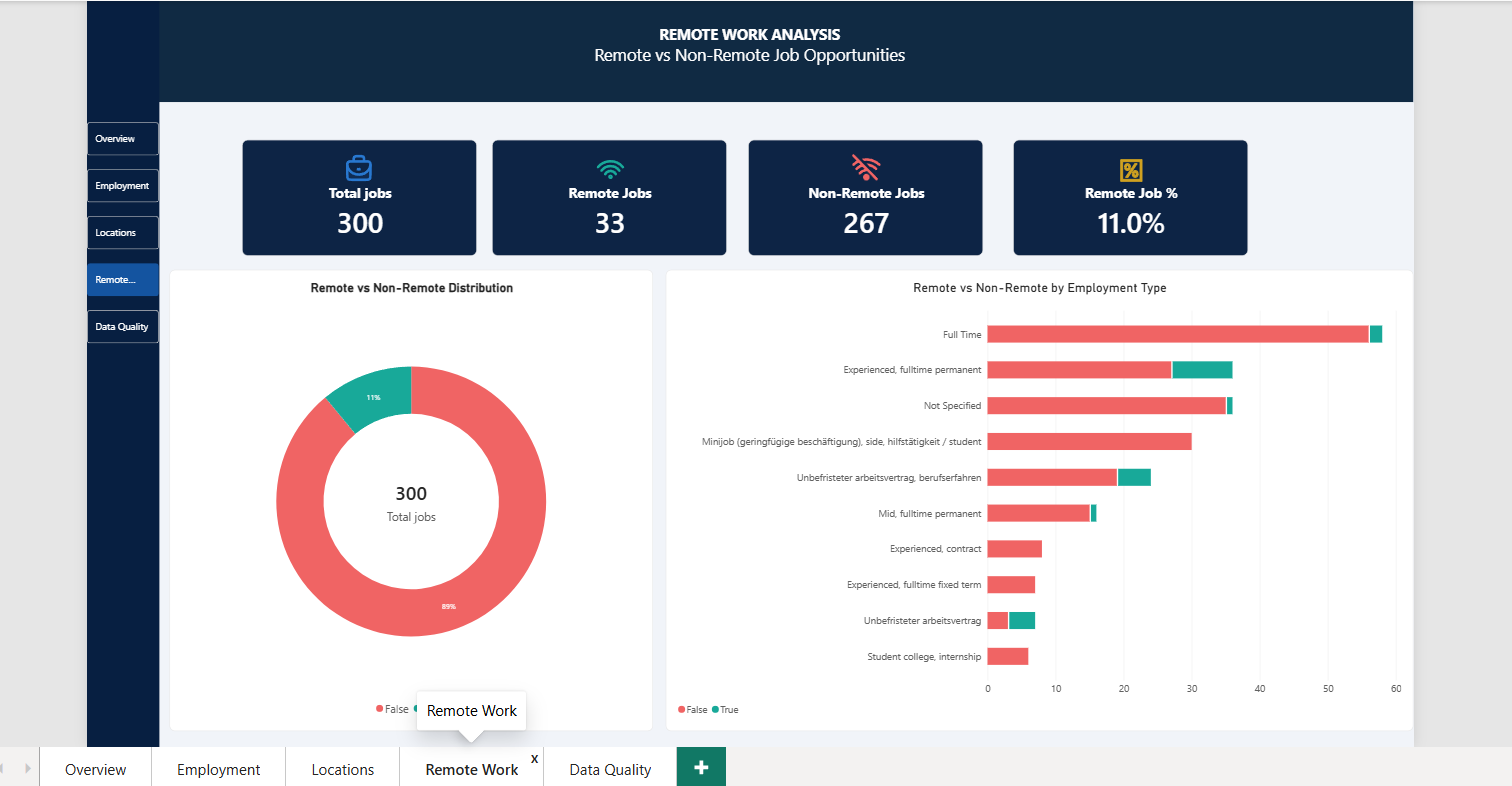

Layout of this report page (visuals, bound fields, positions):
{"tool":"powerbi","page":{"name":"\tRemote Work","canvas":[1920,1080],"ordinal":3},"visuals":[{"type":"shape","box":[0,0,105,1080.4],"z":0,"group":"g2"},{"type":"cardVisual","fields":{"Data":["public clean_jobs.Total jobs"]},"box":[224.4,200.9,340,168],"z":0,"group":"g3"},{"type":"pageNavigator","box":[0,175.5,105,320.3],"z":1000,"group":"g2"},{"type":"cardVisual","fields":{"Data":["public clean_jobs.Remote Jobs"]},"box":[586.3,200.9,340,168],"z":1000},{"type":"cardVisual","fields":{"Data":["public clean_jobs.Non-Remote Jobs"]},"box":[957.3,200.9,340,168],"z":2000},{"type":"cardVisual","fields":{"Data":["public clean_jobs.Remote Job %"]},"box":[1341,200.9,340,168],"z":3000},{"type":"image","box":[331.7,218.1,124.9,45.2],"z":4000,"group":"g3"},{"type":"image","box":[694.9,220.8,124,45],"z":5000},{"type":"image","box":[1065.9,219,124.9,45.2],"z":6000},{"type":"image","box":[1449.5,222.6,124.9,45.2],"z":7000},{"type":"donutChart","title":"Remote vs Non-Remote Distribution","fields":{"Category":["public clean_jobs.remote"],"Y":["public clean_jobs.Total jobs"]},"box":[119.4,389.1,700.3,667.8],"z":8000},{"type":"barChart","title":"Remote vs Non-Remote by Employment Type","fields":{"Category":["public clean_jobs.employment_type"],"Series":["public clean_jobs.remote"],"Y":["public clean_jobs.Total jobs"]},"box":[837.9,389.1,1082.2,667.8],"z":9000},{"type":"group","id":"g1","title":"Group 1","box":[224.4,200.9,340,168],"z":9001},{"type":"shape","box":[0,0,1920.4,146.3],"z":9002},{"type":"textbox","box":[229.6,13,1459.3,103.7],"z":9003},{"type":"group","id":"g2","title":"Group 2","box":[0,0,105,1080.4],"z":9004},{"type":"group","id":"g3","title":"Group 2","box":[224.4,200.9,340,168],"z":9004,"group":"g1"}]}

Visuals, with their boxes on the page's 1920x1080 design canvas (x1, y1, x2, y2). These are canvas units, not pixel positions in the 1512x786 screenshot, which may show the page scaled, cropped or inside an application window:
shape: select_region(0, 0, 105, 1080)
cardVisual - public clean_jobs.Total jobs: select_region(224, 201, 564, 369)
pageNavigator: select_region(0, 176, 105, 496)
cardVisual - public clean_jobs.Remote Jobs: select_region(586, 201, 926, 369)
cardVisual - public clean_jobs.Non-Remote Jobs: select_region(957, 201, 1297, 369)
cardVisual - public clean_jobs.Remote Job %: select_region(1341, 201, 1681, 369)
image: select_region(332, 218, 457, 263)
image: select_region(695, 221, 819, 266)
image: select_region(1066, 219, 1191, 264)
image: select_region(1450, 223, 1574, 268)
"Remote vs Non-Remote Distribution" donutChart: select_region(119, 389, 820, 1057)
"Remote vs Non-Remote by Employment Type" barChart: select_region(838, 389, 1920, 1057)
"Group 1" group: select_region(224, 201, 564, 369)
shape: select_region(0, 0, 1920, 146)
textbox: select_region(230, 13, 1689, 117)
"Group 2" group: select_region(0, 0, 105, 1080)
"Group 2" group: select_region(224, 201, 564, 369)
